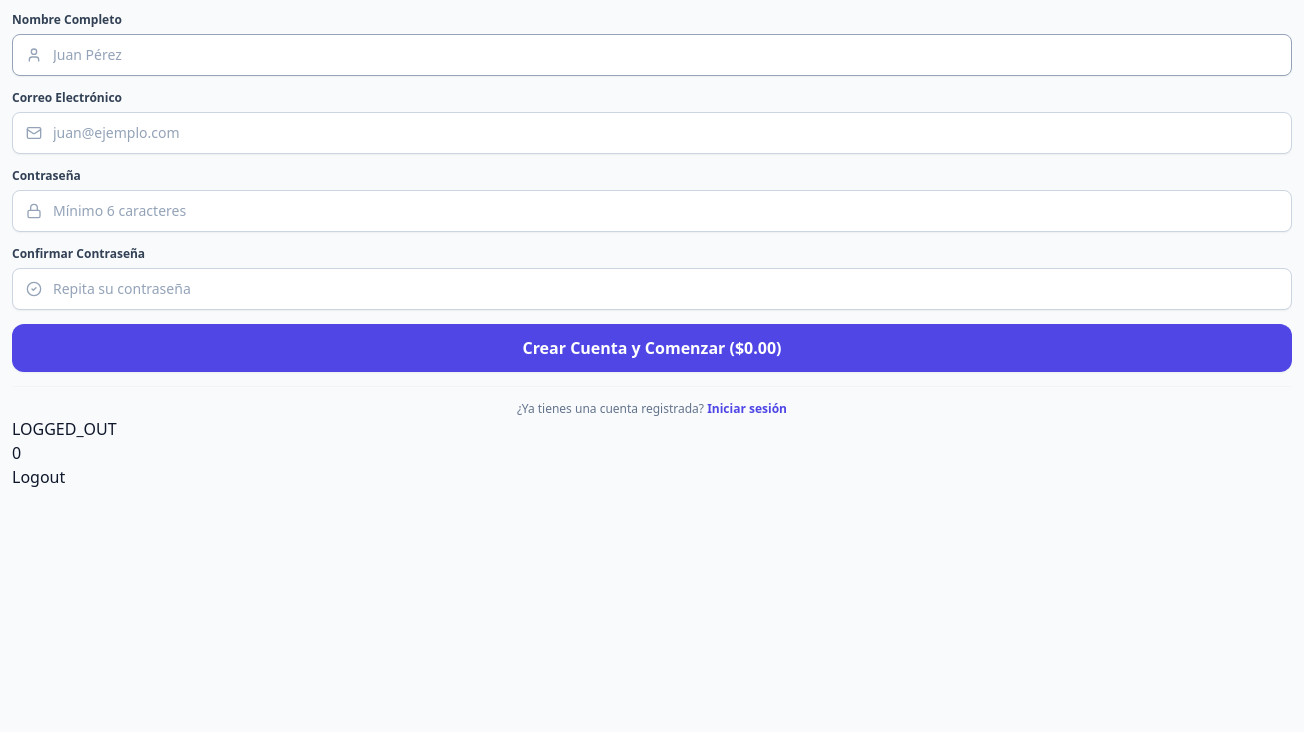
Test: Authentication & Session Flows › debe registrar un usuario nuevo con saldo inicial $0.00 y establecer la sesión
The width and height of the screenshot is (1304, 732).
Type "Nuevo Piloto" into the field labelled "Nombre Completo". click: (652, 55)
box: [12,34,1292,76]
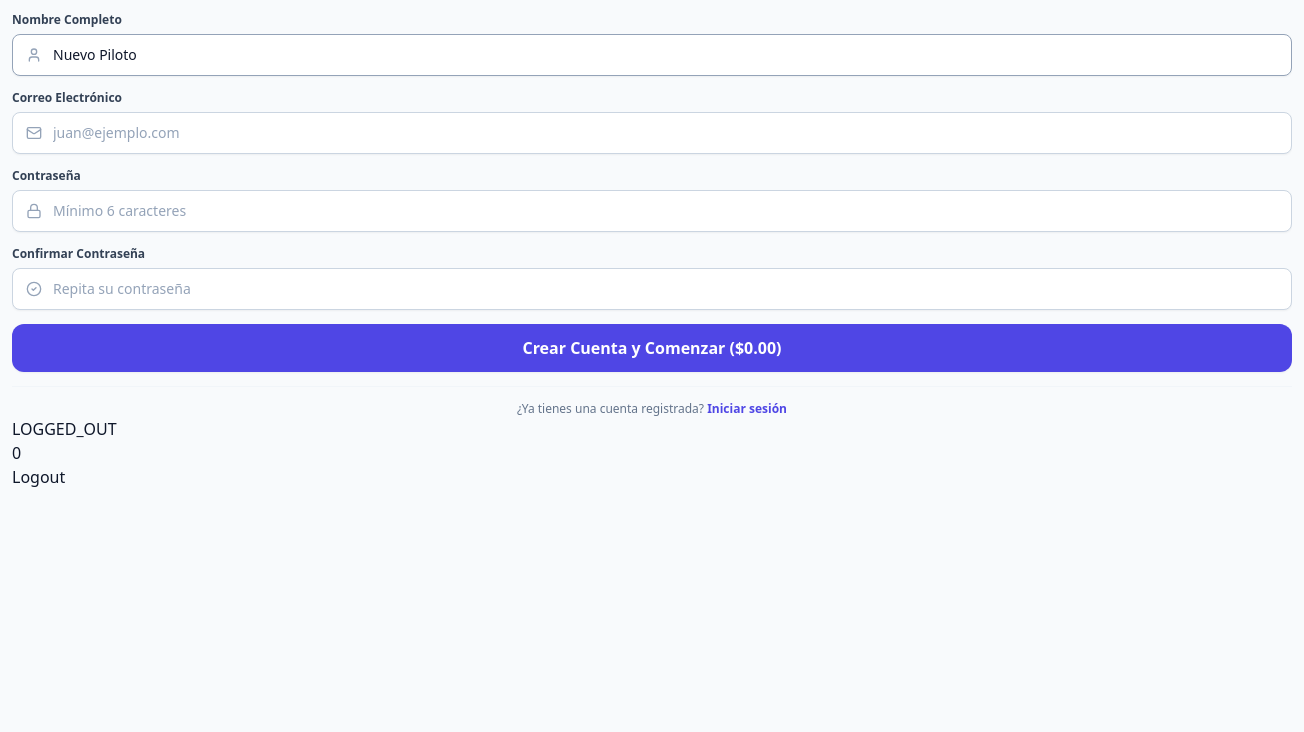
Type "piloto@carreras.com" into the field labelled "Correo Electrónico". click: (652, 133)
box: [12,112,1292,154]
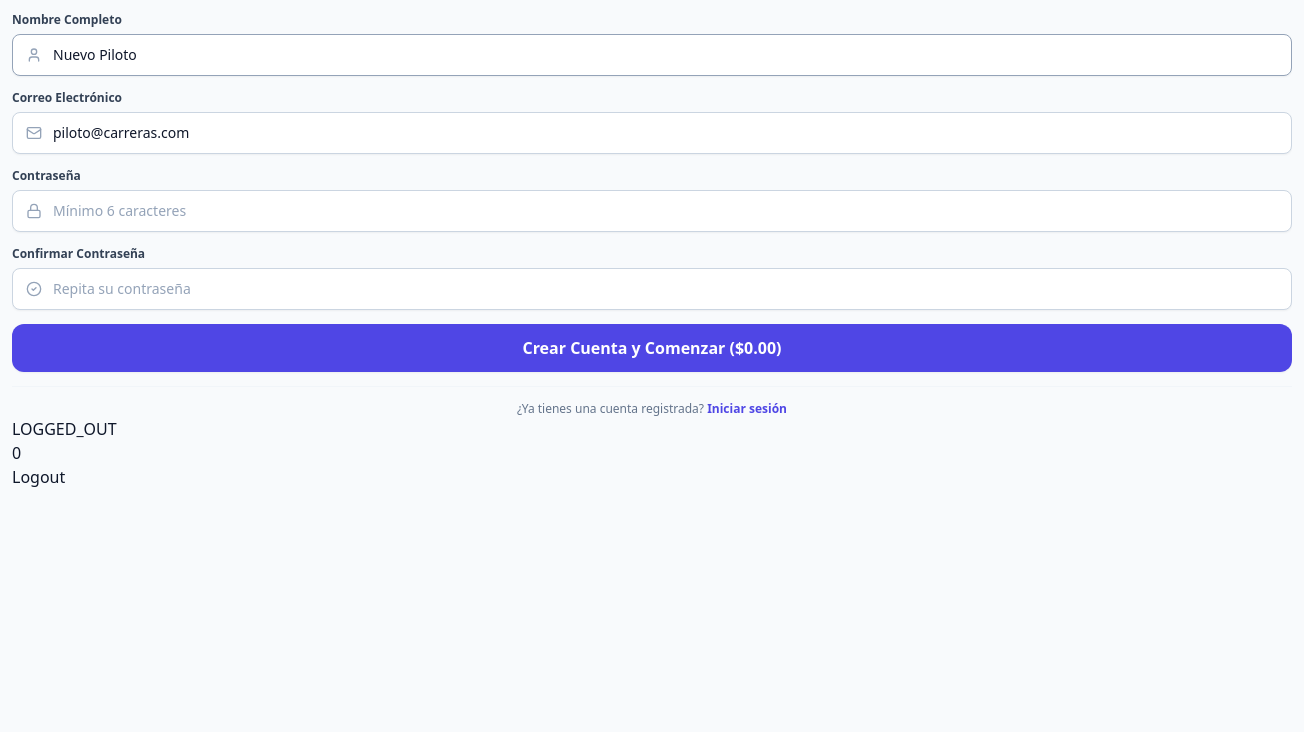
Type "password123" into the password field labelled "Contraseña". click: (652, 211)
box: [12,190,1292,232]
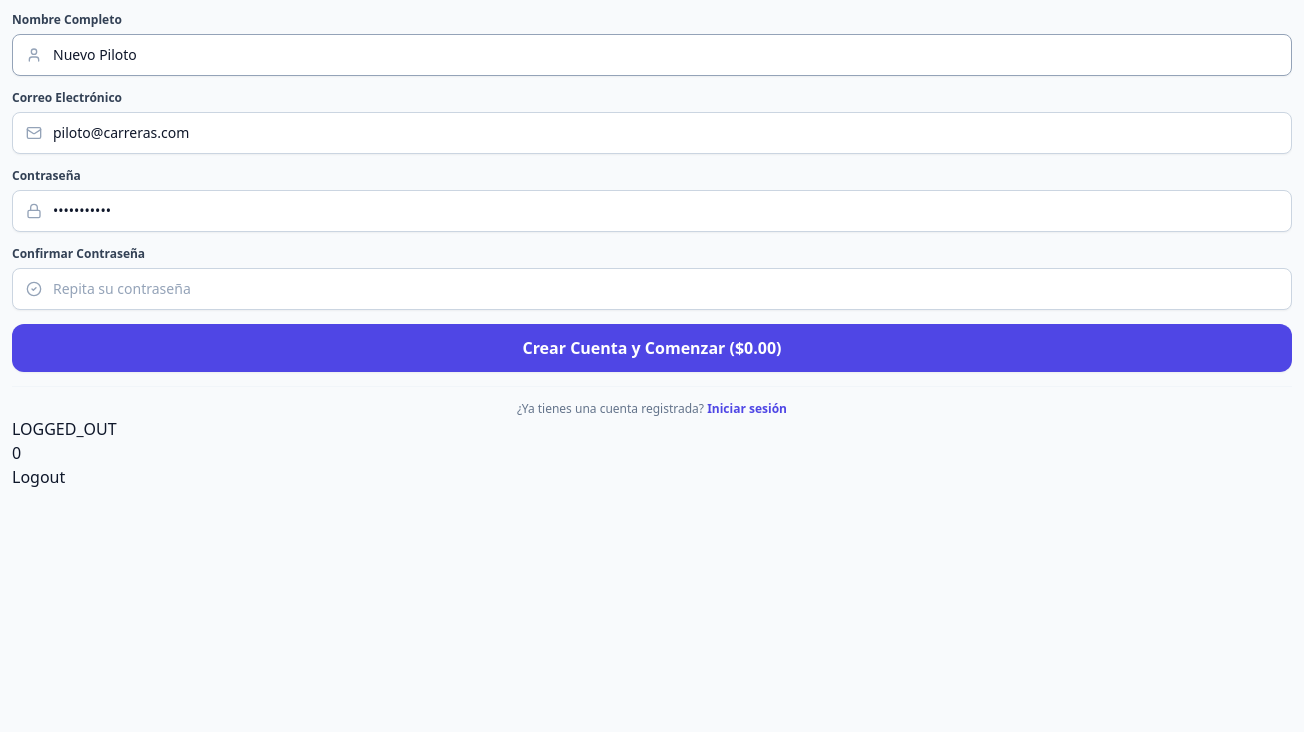
Type "password123" into the password field labelled "Confirmar Contraseña". click: (652, 289)
box: [12,268,1292,310]
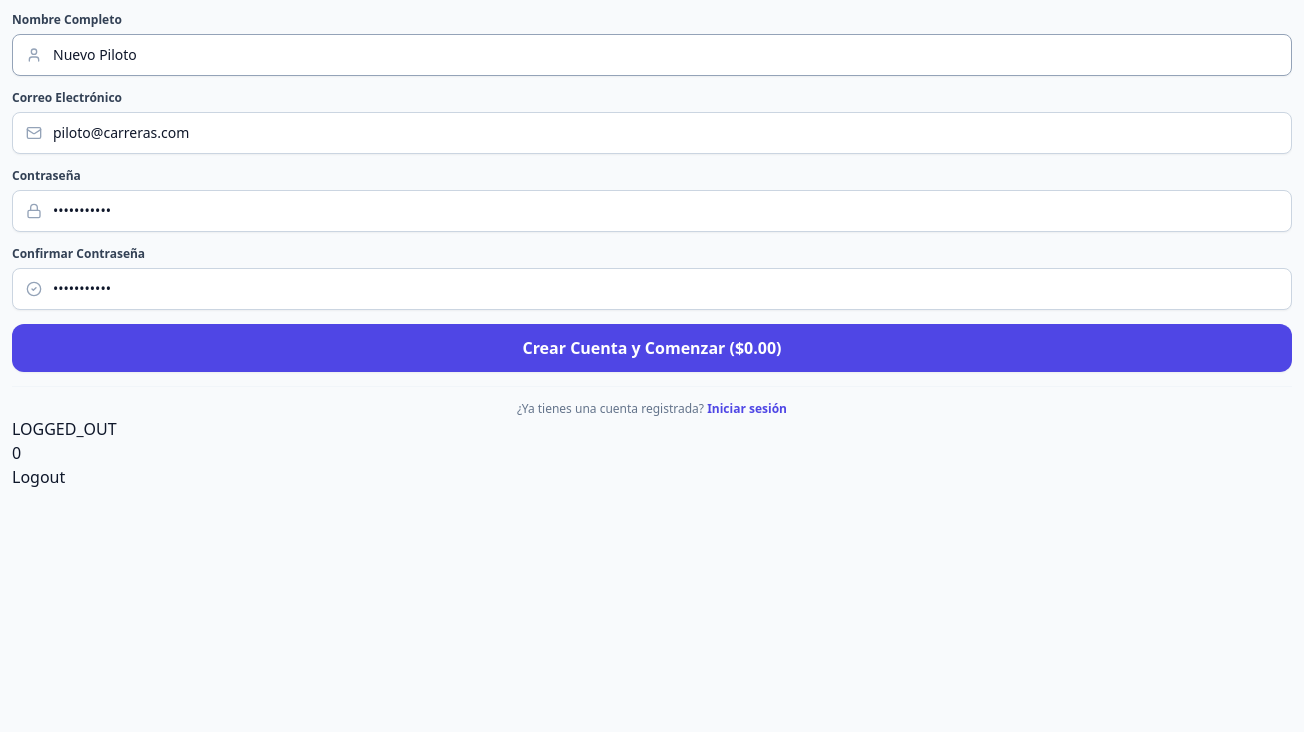
Click the button "Crear Cuenta y Comenzar ($0.00)". click: (652, 348)
box: [12,324,1292,372]
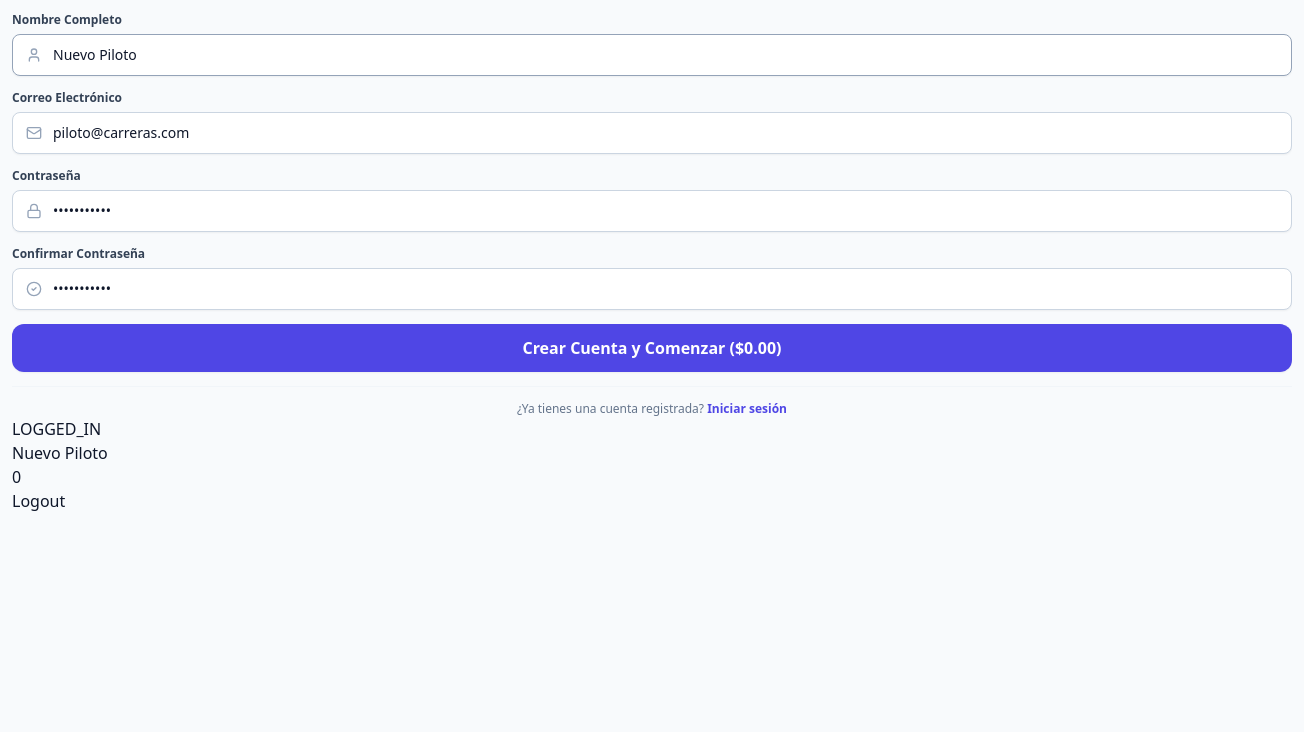
Expected: the text with test id "user-balance" reads "0", [12,466,21,488]
Result: the text with test id "auth-status" reads "LOGGED_IN" at [12,418,101,440]
Result: the text with test id "user-name" reads "Nuevo Piloto" at [12,442,108,464]
